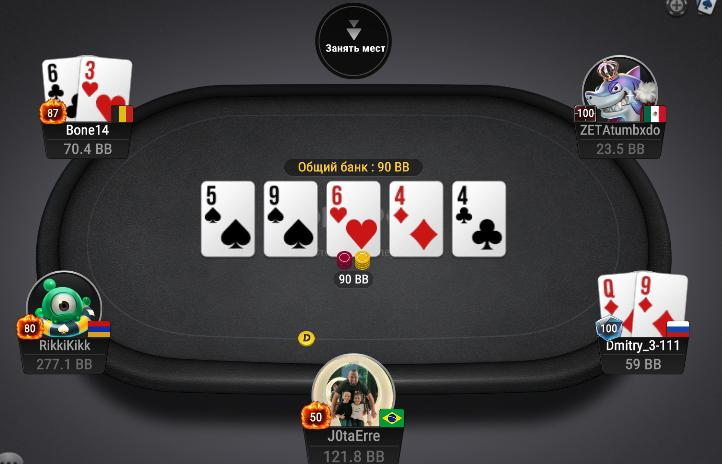3h: (81, 54, 133, 121)
4c: (453, 182, 505, 256)
4d: (389, 181, 443, 258)
5s: (202, 182, 254, 257)
6c: (42, 57, 80, 121)
6h: (326, 180, 381, 254)
9d: (634, 269, 689, 339)
9s: (264, 179, 318, 256)
Qd: (597, 272, 636, 336)
